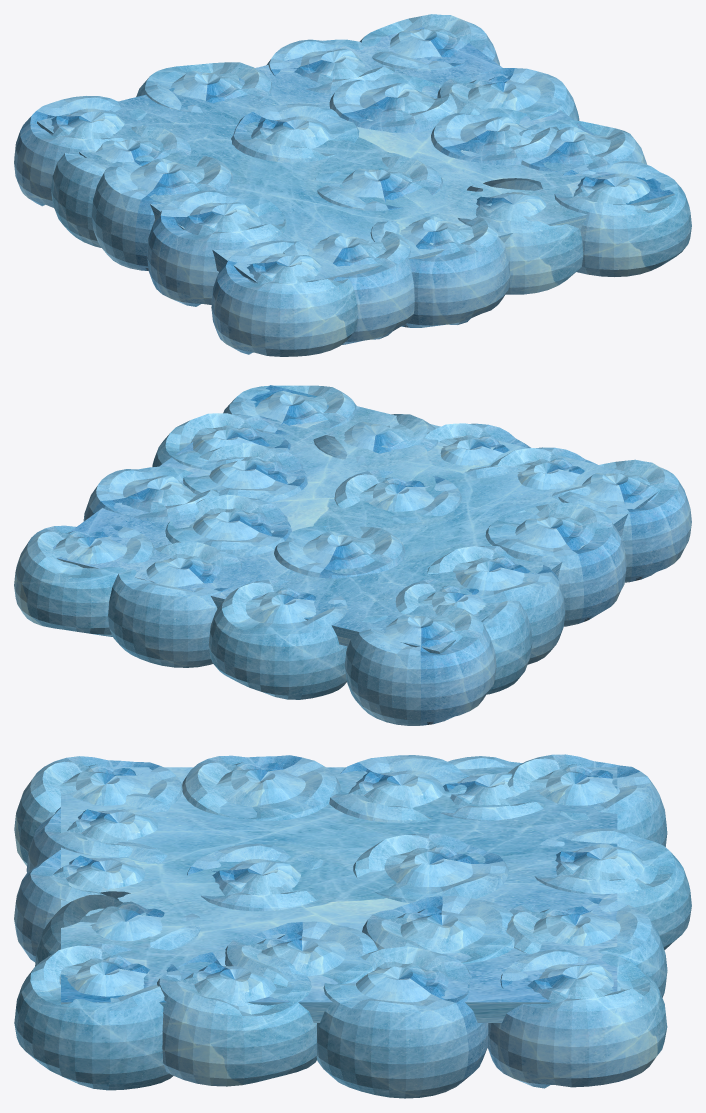
Rendered from Iceberg.fbx.
3 renders of one model, top to bottom at view 1: azimuth 30°, elevation 25°; view 2: azimuth 150°, elevation 25°; view 3: azimuth 270°, elevation 25°, orthographic. The views are drawn at different scales.
Visible parts, largest first — view 1: Cube, Sphere.002, Sphere.001, Sphere.013, Sphere.012, Sphere.008, Sphere, Sphere.016, Sphere.003, Sphere.017, Sphere.009, Sphere.007 (+7 smaller); view 2: Cube, Sphere.003, Sphere.006, Sphere.005, Sphere.004, Sphere.013, Sphere.002, Sphere.008, Sphere.009, Sphere.007, Sphere.017, Sphere.010 (+7 smaller); view 3: Cube, Sphere.014, Sphere.004, Sphere.001, Sphere.015, Sphere.006, Sphere.013, Sphere.003, Sphere.007, Sphere.009, Sphere.002, Sphere.005 (+7 smaller).
Boxes of the visible parts, x1,y1,x2,y2 form: Cube: [37, 27, 674, 282]; Sphere.002: [211, 240, 358, 356]; Sphere.001: [554, 161, 691, 276]; Sphere.013: [147, 190, 286, 306]; Sphere.012: [370, 216, 510, 327]; Sphere.008: [91, 155, 233, 270]; Sphere: [458, 178, 583, 294]; Sphere.016: [283, 231, 414, 344]; Sphere.003: [14, 96, 146, 207]; Sphere.017: [51, 125, 191, 247]; Sphere.009: [329, 74, 457, 133]; Sphere.007: [231, 103, 359, 162]; Cube: [53, 385, 658, 653]; Sphere.003: [344, 605, 496, 725]; Sphere.006: [208, 579, 347, 699]; Sphere.005: [108, 542, 241, 667]; Sphere.004: [14, 525, 154, 636]; Sphere.013: [485, 502, 626, 626]; Sphere.002: [558, 459, 691, 582]; Sphere.008: [427, 546, 565, 664]; Sphere.009: [165, 494, 291, 557]; Sphere.007: [274, 526, 405, 578]; Sphere.017: [395, 578, 532, 694]; Sphere.010: [183, 443, 307, 502]; Cube: [61, 767, 617, 1022]; Sphere.014: [316, 946, 488, 1098]; Sphere.004: [487, 949, 667, 1088]; Sphere.001: [14, 943, 182, 1090]; Sphere.015: [157, 950, 316, 1086]; Sphere.006: [534, 828, 691, 949]; Sphere.013: [182, 755, 340, 820]; Sphere.003: [507, 754, 667, 846]; Sphere.007: [353, 833, 508, 903]; Sphere.009: [362, 896, 514, 963]; Sphere.002: [14, 756, 182, 865]; Sphere.005: [506, 897, 667, 997].
Size of the model in its own units: 709 by 124 by 741.
1 material, 1 textured.
